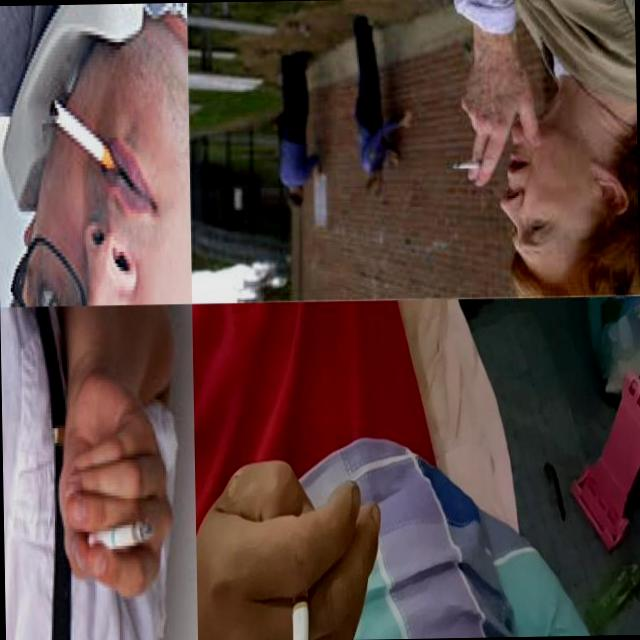smoke: (47, 94, 115, 180), (83, 521, 159, 555), (290, 557, 310, 640), (451, 160, 486, 169)
